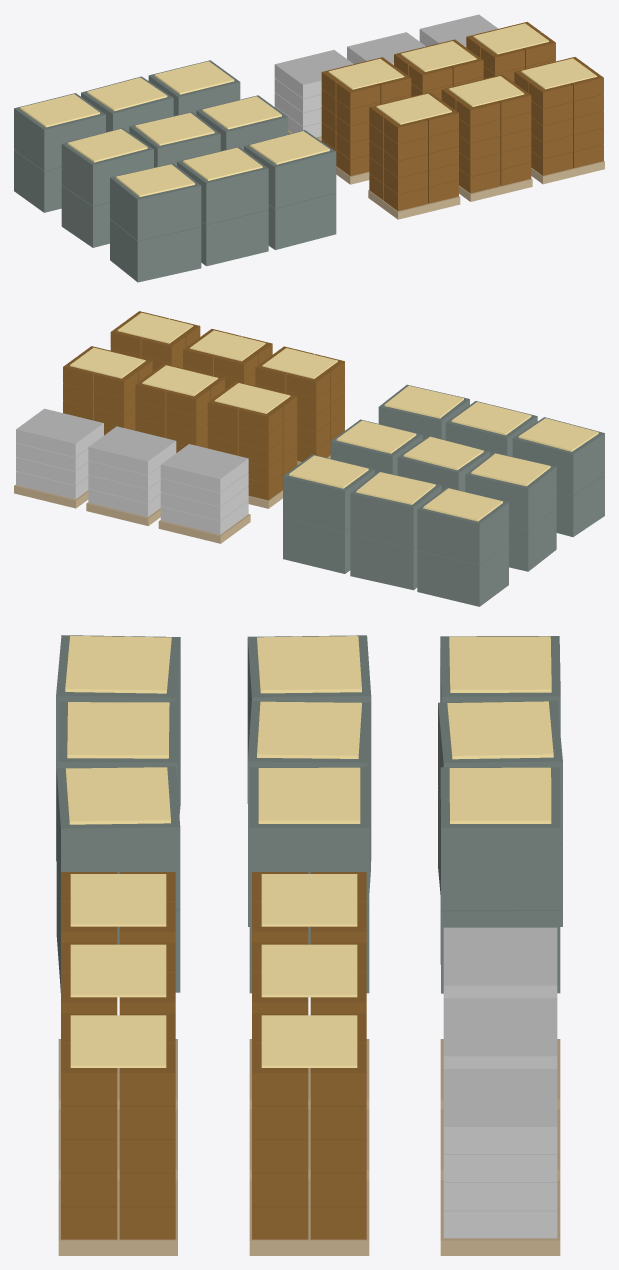
The model's file is SM_AcopioViveres_v0_Lleno_LOD0.fbx.
The picture shows the model from 3 angles, top to bottom: view 1: azimuth 30°, elevation 25°; view 2: azimuth 150°, elevation 25°; view 3: azimuth 270°, elevation 25°; orthographic projection. The views are drawn at different scales.
Parts seen in each view (by area): view 1: SM_acopio_viveres_v0_LOD0; view 2: SM_acopio_viveres_v0_LOD0; view 3: SM_acopio_viveres_v0_LOD0.
Part boxes in pixels (left/top/right/bottom): SM_acopio_viveres_v0_LOD0: left=14, top=14, right=604, bottom=282; SM_acopio_viveres_v0_LOD0: left=14, top=311, right=604, bottom=606; SM_acopio_viveres_v0_LOD0: left=56, top=635, right=562, bottom=1255.
Size of the model in its own units: 9.02 by 1.71 by 4.25.
